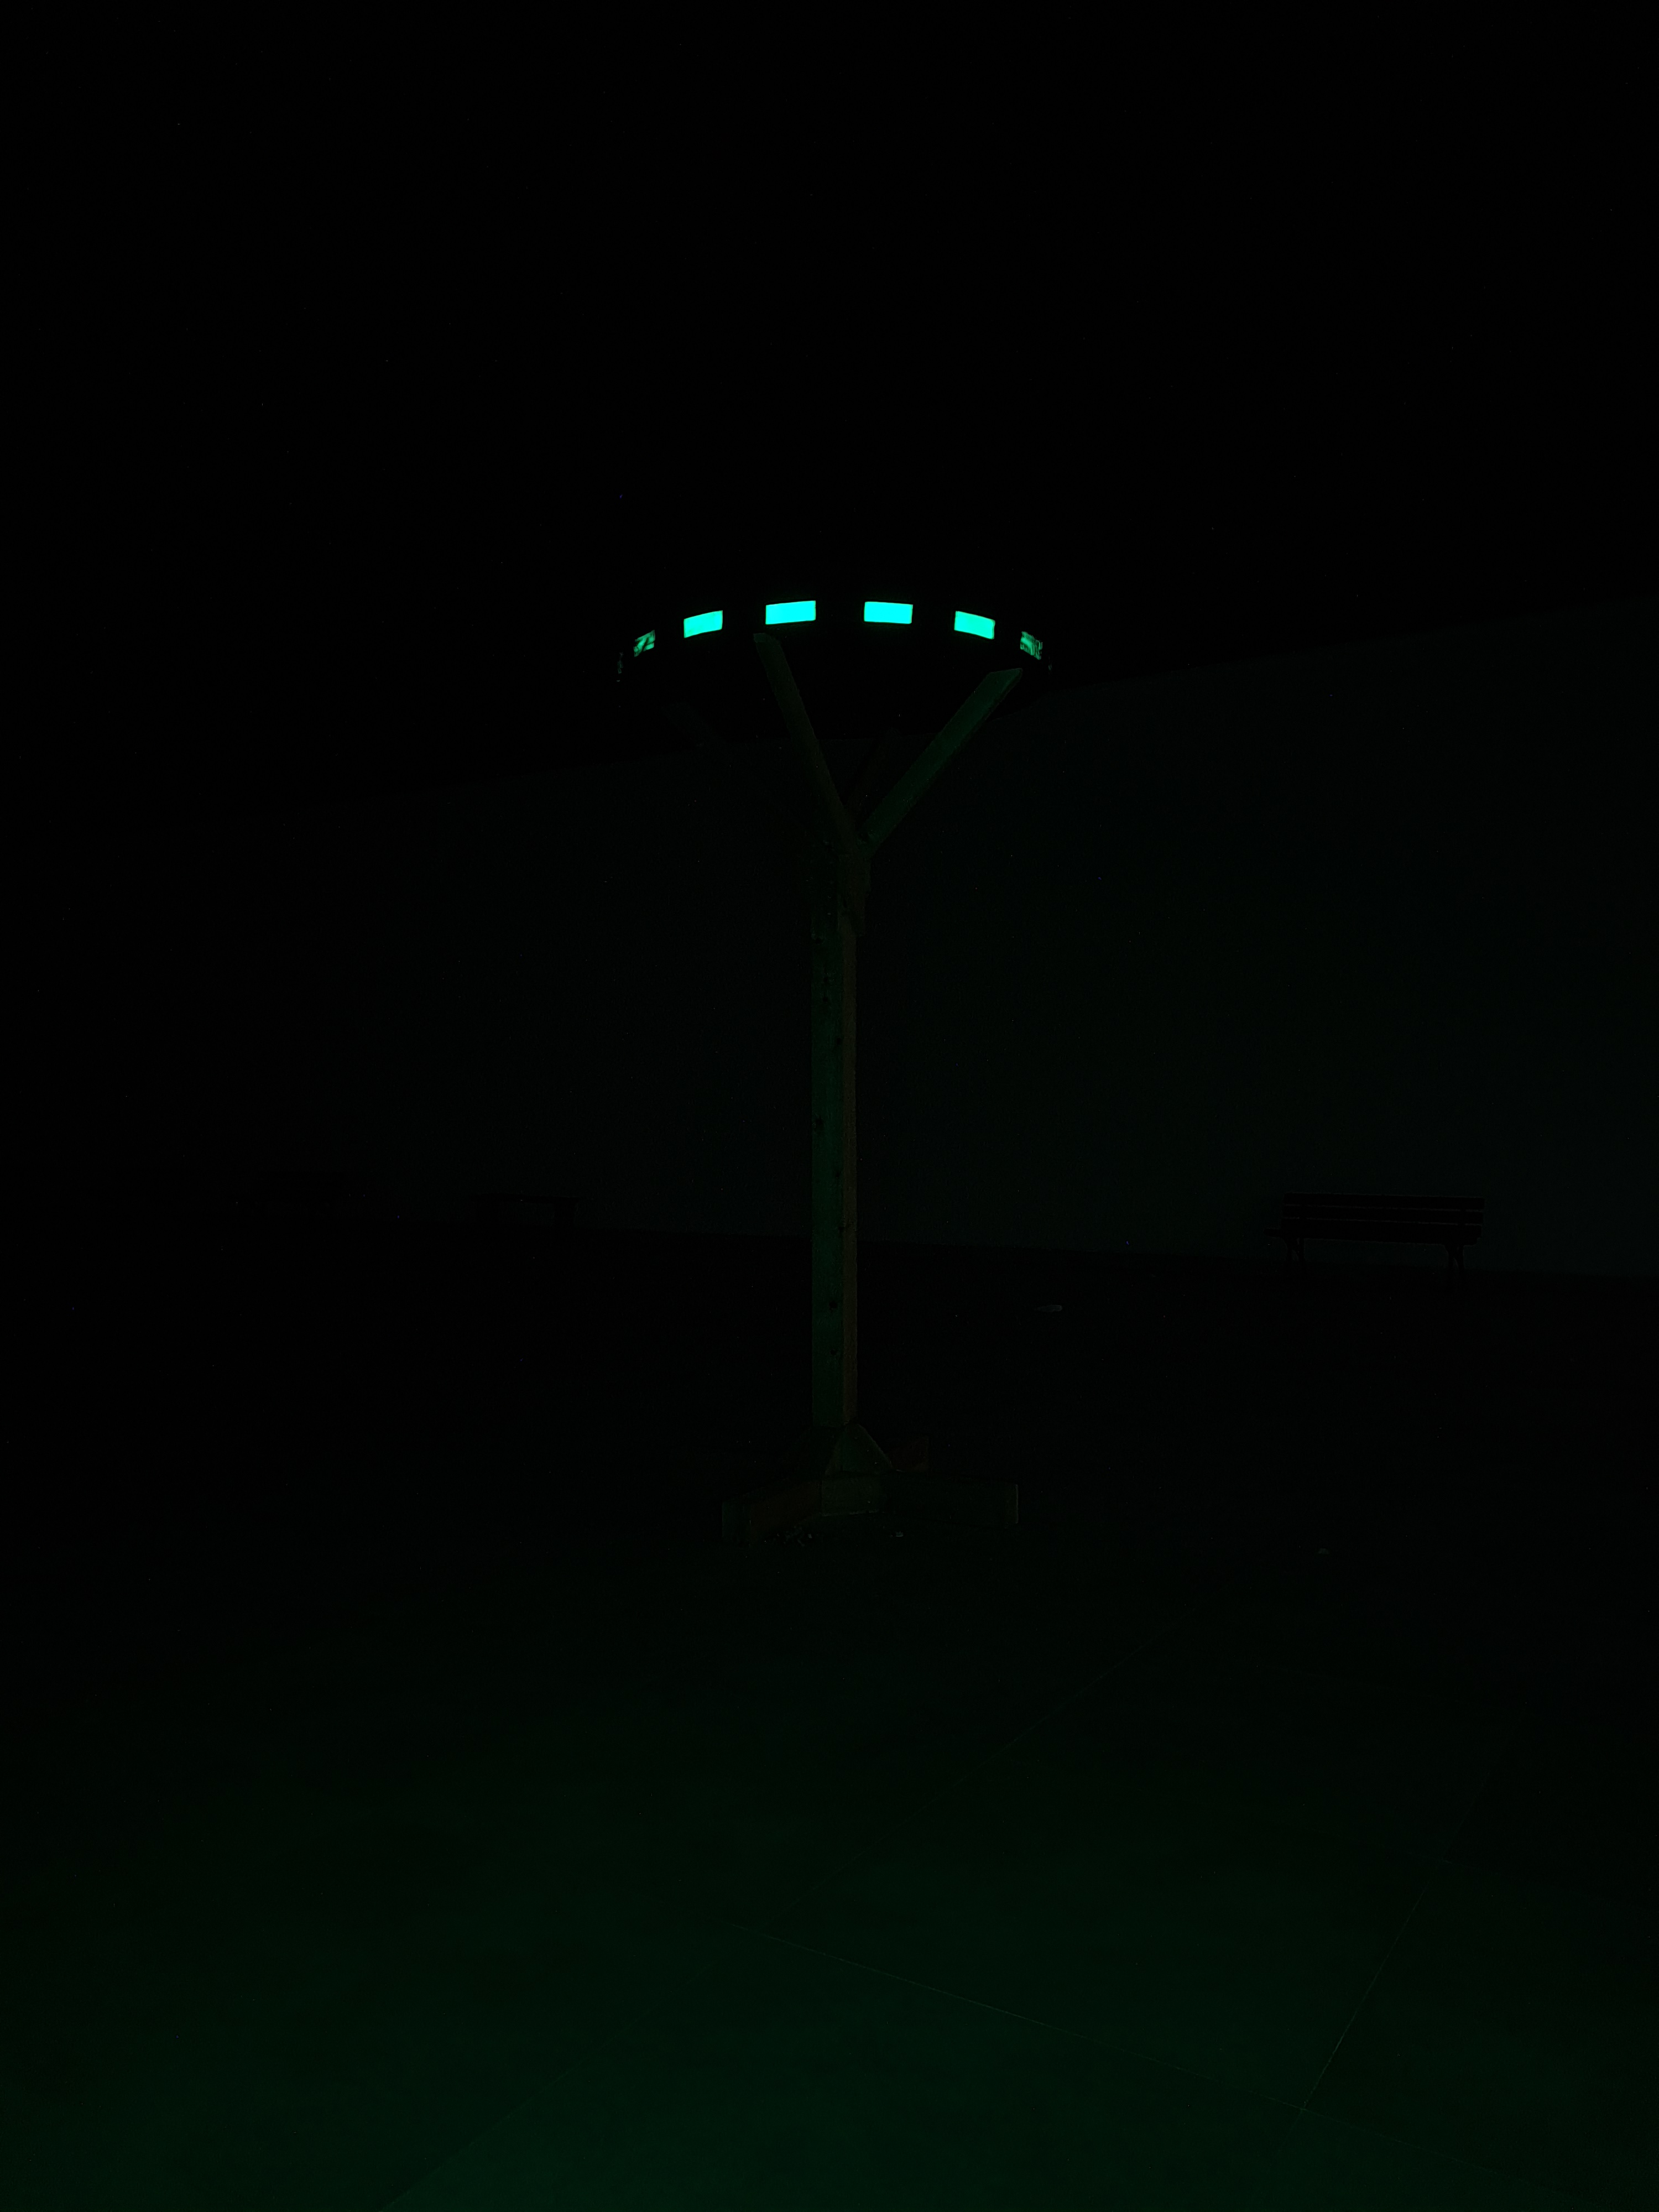hoop: (629, 594, 1044, 662)
